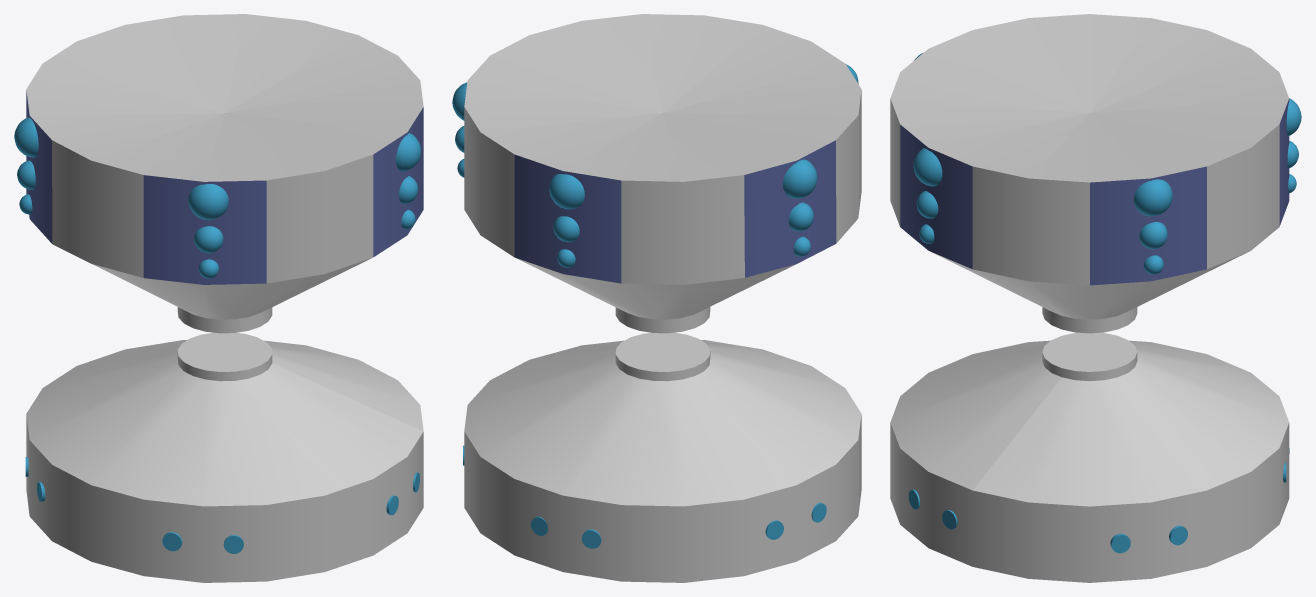
File: Maquina2.obj
The picture shows the model from 3 angles, left to right: view 1: azimuth 30°, elevation 25°; view 2: azimuth 150°, elevation 25°; view 3: azimuth 270°, elevation 25°; orthographic projection.
Visible parts, largest first — view 1: pPipe2; view 2: pPipe2; view 3: pPipe2.
Part boxes in pixels (bbox=[...]): pPipe2: bbox=[14, 14, 423, 582]; pPipe2: bbox=[452, 14, 861, 582]; pPipe2: bbox=[890, 14, 1301, 582].
Size of the model in its own units: 2.06 by 2.22 by 2.06.
